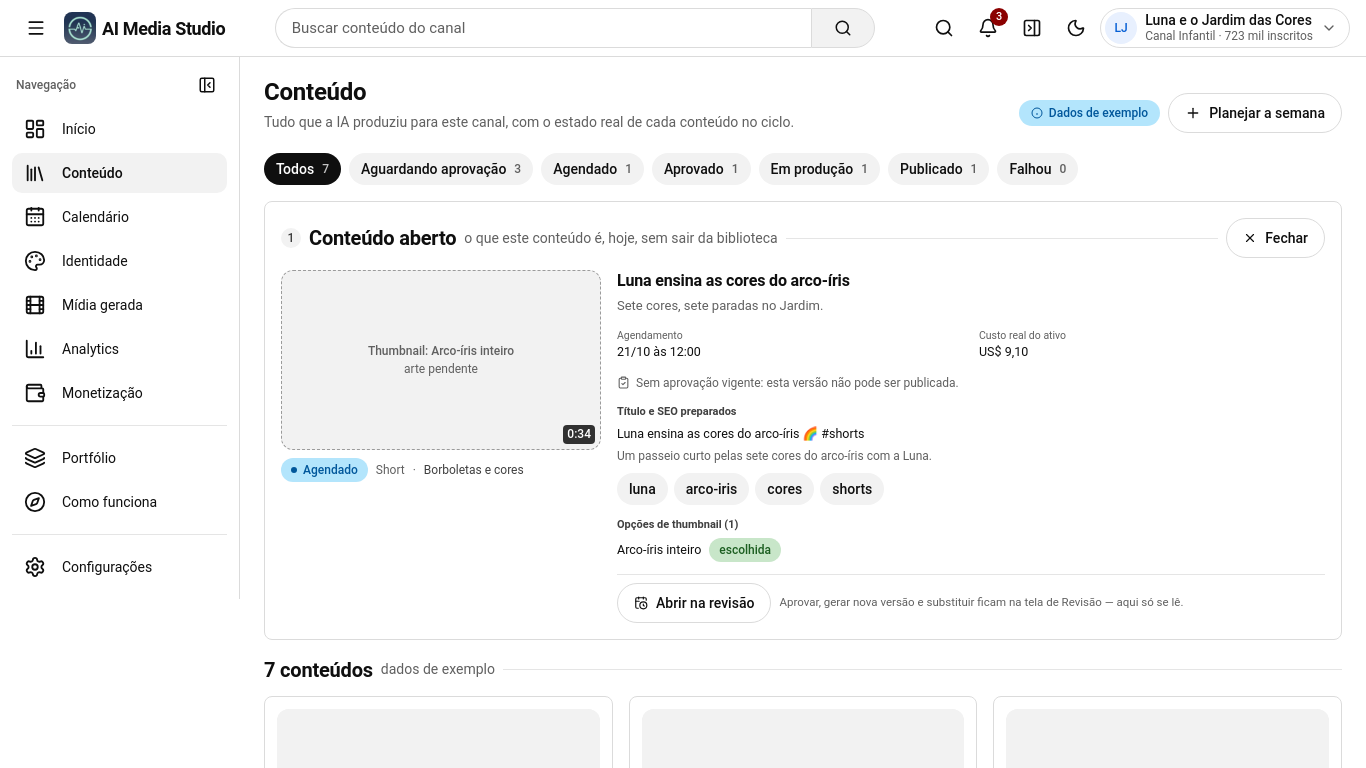
Test: conteúdo aberto na biblioteca › fechar tira o conteúdo da tela
The width and height of the screenshot is (1366, 768).
Check: the heading "Conteúdo aberto" is shown, box [309,224,456,252]
Click the button with aria-label "Fechar o conteúdo aberto" at (1276, 238), box [1226,218,1325,258]
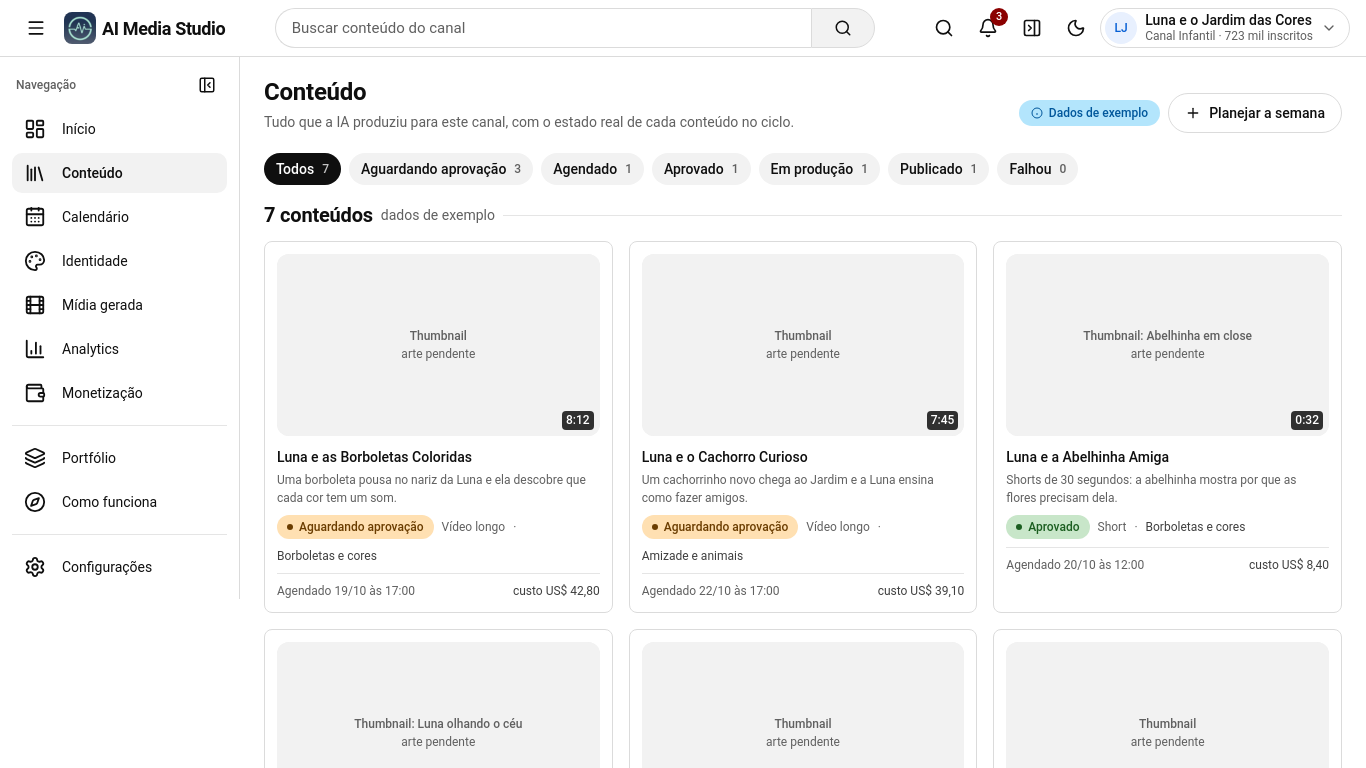
Check: the heading "Conteúdo aberto" is gone
